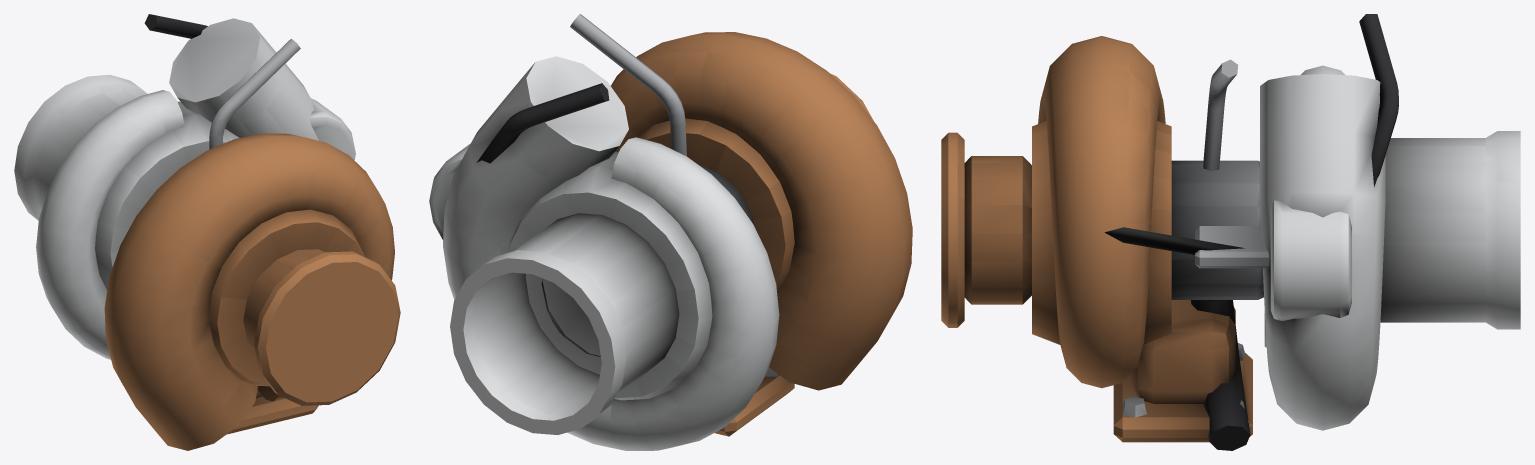
File: turbo_small.glb
The picture shows the model from 3 angles, left to right: view 1: azimuth 30°, elevation 25°; view 2: azimuth 150°, elevation 25°; view 3: azimuth 270°, elevation 25°; orthographic projection. The views are drawn at different scales.
Parts seen in each view (by area): view 1: PART; view 2: PART; view 3: PART.
Boxes of the visible parts, <box> form: PART: <box>14,14,400,450</box>; PART: <box>429,14,912,450</box>; PART: <box>941,14,1520,450</box>.
Bounding box in the file's own units: 0.1874 × 0.1916 × 0.249.
